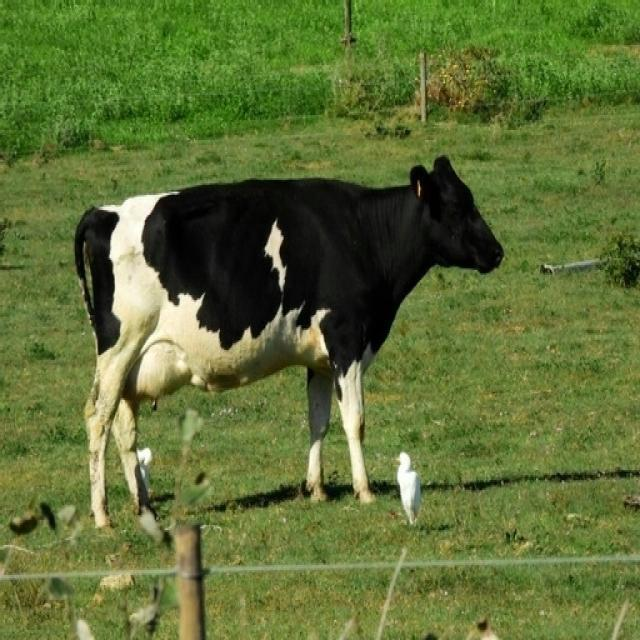cow: (75, 158, 504, 527)
